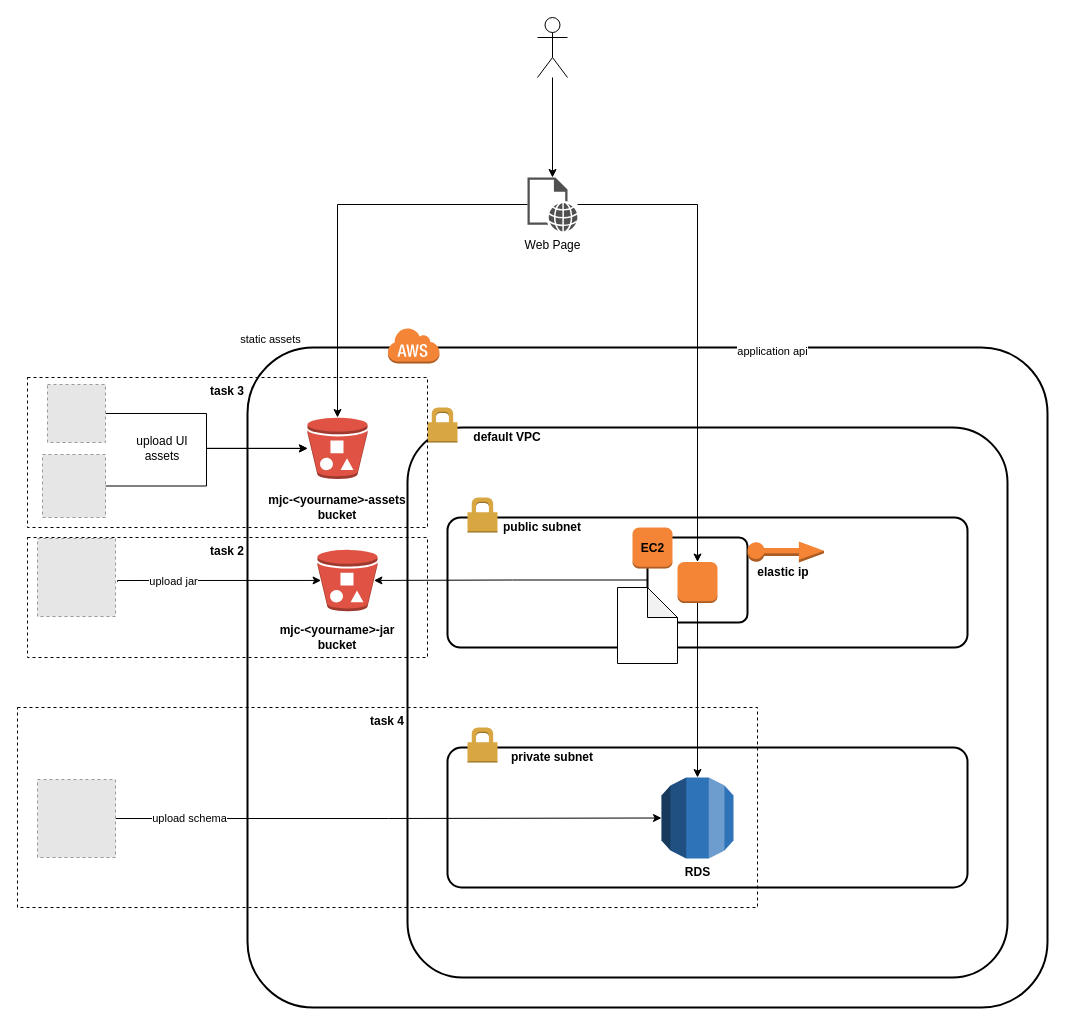
The diagram is 1066 pixels wide and 1026 high, and some of its shapes have lost their labels. Grey dashed boxes stand in for pictures. Here are the shapes that lost their labels. From the top down, the centre of each, then its label:
the point at 552,47: User
the point at 697,582: App
the point at 647,625: User Data
